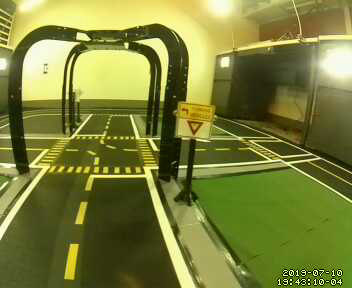Turn Yield: (176, 99, 213, 143)
